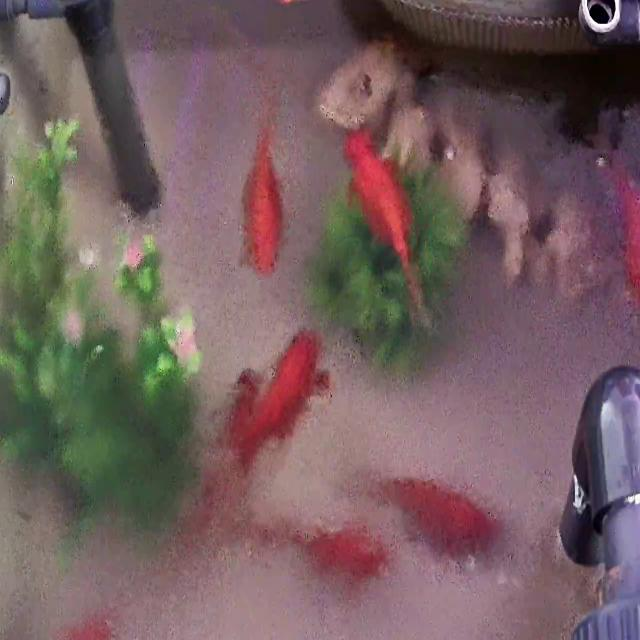fish: (345, 123, 423, 319), (225, 330, 326, 480), (387, 475, 498, 557), (242, 120, 286, 276), (286, 524, 382, 584), (608, 164, 640, 322), (224, 365, 269, 463)
